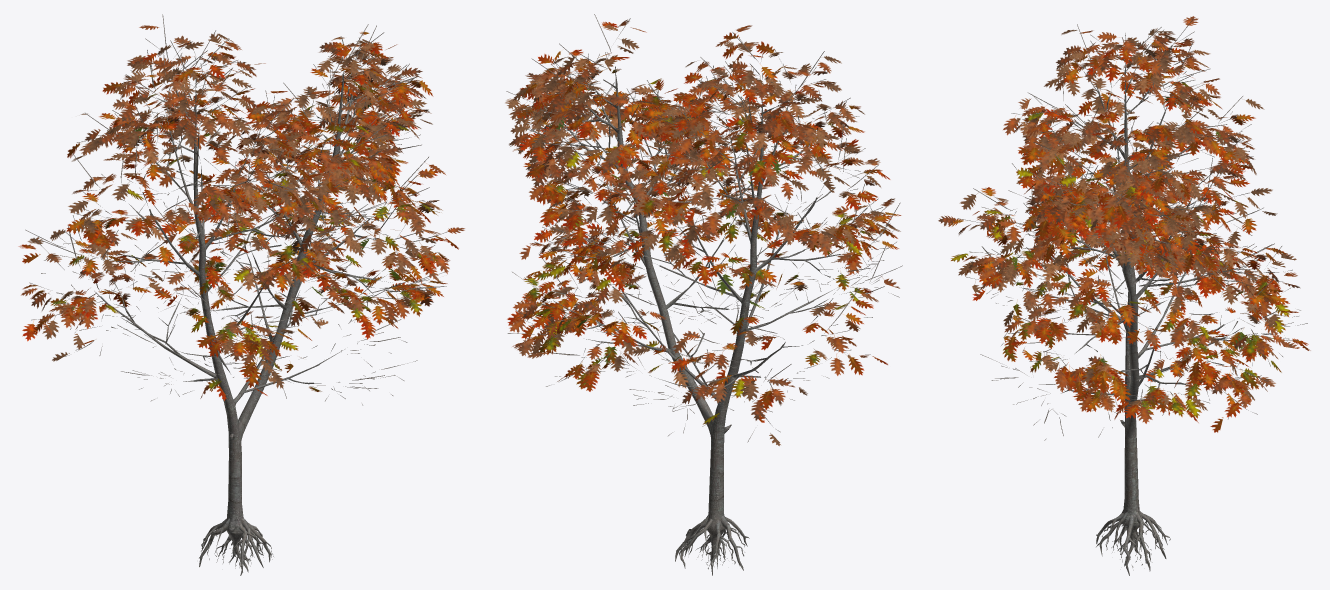
Rendered from oak0.glb.
3 views of the same model, side by side, from view 1: azimuth 30°, elevation 25°; view 2: azimuth 150°, elevation 25°; view 3: azimuth 270°, elevation 25° (orthographic). The views are drawn at different scales.
Visible parts, largest first — view 1: Quercus_rubra_HD_Quercus rub leaf 01h_0, Quercus_rubra_HD_Quercus rub leaf 01g_0, Quercus_rubra_HD_Quercus rub leaf 01i_0, Quercus_rubra_HD_Quercus rub bark_0, Quercus_rubra_HD_Quercus rub twig 02_0, Quercus_rubra_HD_Quercus rub leaf 01f_0, Quercus_rubra_HD_Quercus rub twig 01_0; view 2: Quercus_rubra_HD_Quercus rub leaf 01h_0, Quercus_rubra_HD_Quercus rub leaf 01g_0, Quercus_rubra_HD_Quercus rub leaf 01i_0, Quercus_rubra_HD_Quercus rub bark_0, Quercus_rubra_HD_Quercus rub twig 02_0, Quercus_rubra_HD_Quercus rub leaf 01f_0, Quercus_rubra_HD_Quercus rub twig 01_0, Quercus_rubra_HD_Quercus rub leaf 01e_0; view 3: Quercus_rubra_HD_Quercus rub leaf 01g_0, Quercus_rubra_HD_Quercus rub leaf 01h_0, Quercus_rubra_HD_Quercus rub leaf 01i_0, Quercus_rubra_HD_Quercus rub bark_0, Quercus_rubra_HD_Quercus rub twig 02_0, Quercus_rubra_HD_Quercus rub leaf 01f_0, Quercus_rubra_HD_Quercus rub twig 01_0.
Part boxes in pixels (box(x1,y1,x2,y2)): Quercus_rubra_HD_Quercus rub leaf 01h_0: box(21, 25, 464, 398); Quercus_rubra_HD_Quercus rub leaf 01g_0: box(18, 32, 458, 400); Quercus_rubra_HD_Quercus rub leaf 01i_0: box(27, 33, 442, 388); Quercus_rubra_HD_Quercus rub bark_0: box(100, 88, 375, 575); Quercus_rubra_HD_Quercus rub twig 02_0: box(25, 14, 447, 405); Quercus_rubra_HD_Quercus rub leaf 01f_0: box(50, 79, 442, 391); Quercus_rubra_HD_Quercus rub twig 01_0: box(80, 70, 390, 383); Quercus_rubra_HD_Quercus rub leaf 01h_0: box(509, 19, 899, 420); Quercus_rubra_HD_Quercus rub leaf 01g_0: box(507, 22, 901, 422); Quercus_rubra_HD_Quercus rub leaf 01i_0: box(505, 24, 900, 446); Quercus_rubra_HD_Quercus rub bark_0: box(572, 83, 840, 575); Quercus_rubra_HD_Quercus rub twig 02_0: box(506, 14, 902, 442); Quercus_rubra_HD_Quercus rub leaf 01f_0: box(523, 68, 876, 424); Quercus_rubra_HD_Quercus rub twig 01_0: box(558, 66, 863, 395); Quercus_rubra_HD_Quercus rub leaf 01e_0: box(556, 115, 781, 363); Quercus_rubra_HD_Quercus rub leaf 01g_0: box(948, 42, 1310, 432); Quercus_rubra_HD_Quercus rub leaf 01h_0: box(938, 16, 1300, 423); Quercus_rubra_HD_Quercus rub leaf 01i_0: box(958, 28, 1296, 412); Quercus_rubra_HD_Quercus rub bark_0: box(1049, 71, 1227, 575); Quercus_rubra_HD_Quercus rub twig 02_0: box(957, 19, 1307, 440); Quercus_rubra_HD_Quercus rub leaf 01f_0: box(951, 82, 1290, 419); Quercus_rubra_HD_Quercus rub twig 01_0: box(1017, 62, 1247, 397).
Size of the model in its own units: 3.29 by 4.29 by 2.82.
10 materials, 10 textured.
